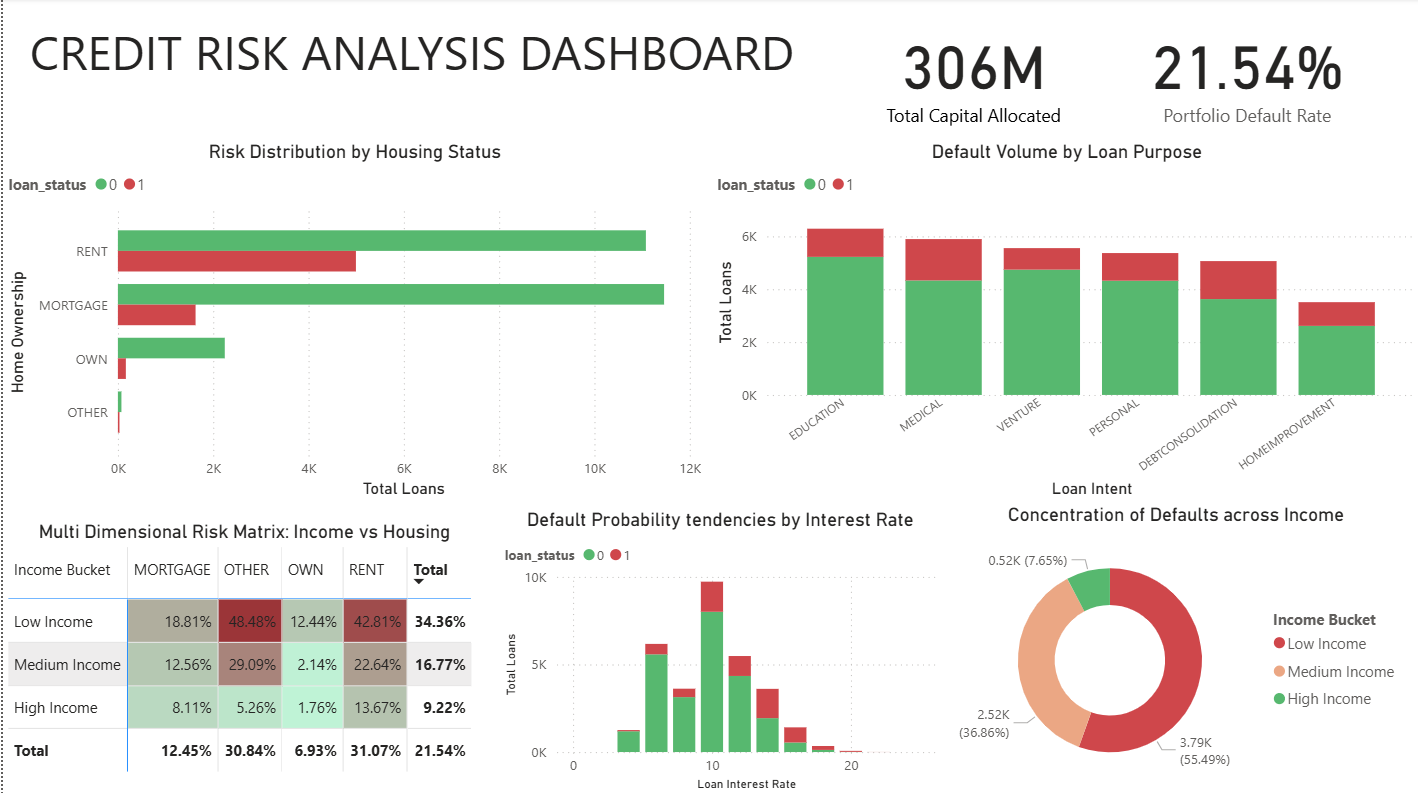

This screenshot's page, from the dashboard's own definition file:
{"tool":"powerbi","page":{"name":"Page 1","canvas":[1280,720],"ordinal":0},"visuals":[{"type":"columnChart","title":"Default Volume by Loan Purpose","fields":{"Category":["credit_risk_cleaned.loan_intent"],"Y":["CountNonNull(credit_risk_cleaned.loan_status)"],"Series":["credit_risk_cleaned.loan_status"]},"box":[639.4,128.1,640.6,327.2],"z":0},{"type":"clusteredBarChart","title":"Risk Distribution by Housing Status","fields":{"Category":["credit_risk_cleaned.person_home_ownership"],"Y":["CountNonNull(credit_risk_cleaned.loan_status)"],"Series":["credit_risk_cleaned.loan_status"]},"box":[0,128.1,634.4,327.2],"z":1000},{"type":"card","fields":{"Values":["Sum(credit_risk_cleaned.loan_amnt)"]},"box":[774.4,14,202.3,107],"z":2000},{"type":"card","fields":{"Values":["Avg(credit_risk_cleaned.loan_status)"]},"box":[1024.4,14,195.3,107],"z":3000},{"type":"donutChart","title":"Concentration of Defaults across Income","fields":{"Series":["credit_risk_cleaned.Income Bucket"],"Category":["credit_risk_cleaned.Income Bucket"],"Y":["CountNonNull(credit_risk_cleaned.loan_intent)"]},"box":[846.5,455.4,422.7,264.9],"z":4000},{"type":"pivotTable","title":"Multi Dimensional Risk Matrix: Income vs Housing","fields":{"Rows":["credit_risk_cleaned.Income Bucket"],"Columns":["credit_risk_cleaned.person_home_ownership"],"Values":["Avg(credit_risk_cleaned.loan_status)"]},"box":[0,471.5,435.4,248.8],"z":5000},{"type":"textbox","box":[8.7,13.7,731.4,73.4],"z":6000},{"type":"columnChart","title":"Default Probability tendencies by Interest Rate","fields":{"Category":["credit_risk_cleaned.loan_int_rate (bins)"],"Y":["CountNonNull(credit_risk_cleaned.loan_status)"],"Series":["credit_risk_cleaned.loan_status"]},"box":[447.7,455.8,398.8,264],"z":7000}]}

Visuals, with their boxes in screenshot pixels (x1, y1, x2, y2), scaled from the page's 1280x720 canvas onto the 1418x793 screenshot:
"Default Volume by Loan Purpose" columnChart: (x1=708, y1=141, x2=1417, y2=501)
"Risk Distribution by Housing Status" clusteredBarChart: (x1=0, y1=141, x2=703, y2=501)
card - Sum(credit_risk_cleaned.loan_amnt): (x1=858, y1=15, x2=1082, y2=133)
card - Avg(credit_risk_cleaned.loan_status): (x1=1135, y1=15, x2=1351, y2=133)
"Concentration of Defaults across Income" donutChart: (x1=938, y1=502, x2=1406, y2=792)
"Multi Dimensional Risk Matrix: Income vs Housing" pivotTable: (x1=0, y1=519, x2=482, y2=792)
textbox: (x1=10, y1=15, x2=820, y2=96)
"Default Probability tendencies by Interest Rate" columnChart: (x1=496, y1=502, x2=938, y2=792)
